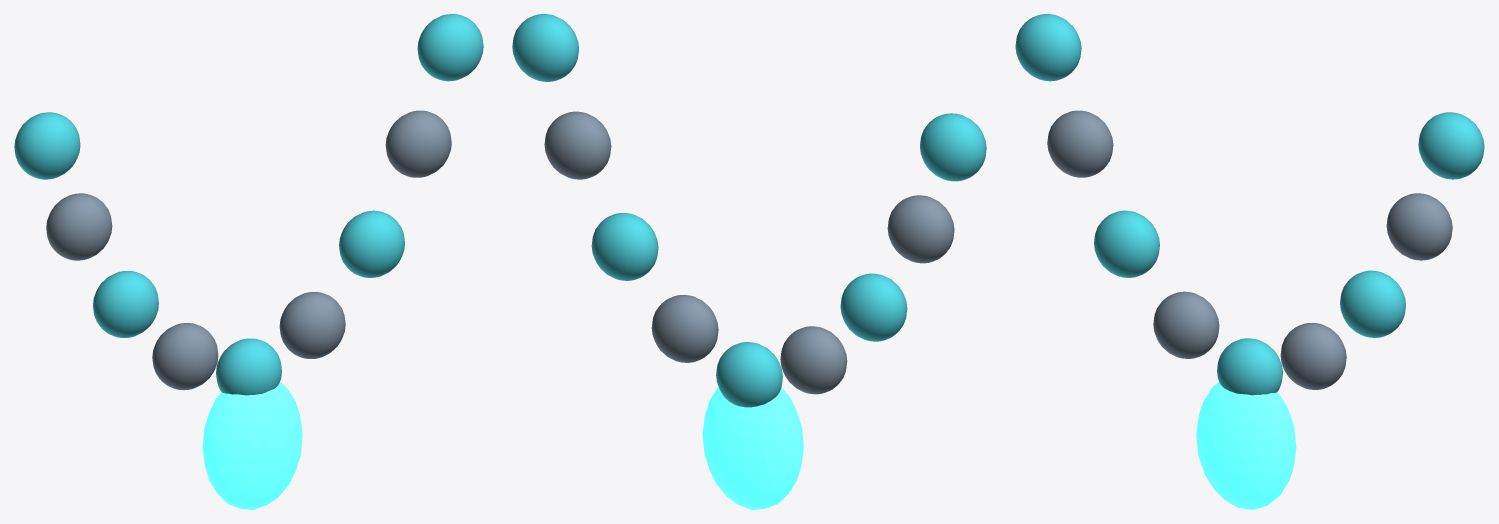
File: necklace_v8.glb
3 views of the same model, side by side, from view 1: azimuth 30°, elevation 25°; view 2: azimuth 150°, elevation 25°; view 3: azimuth 330°, elevation 25° (orthographic).
Parts seen in each view (by area): view 1: PEARL_DROP_EMISSIVE, PEARL_ACCENT, PEARL_PRIMARY.003, PEARL_PRIMARY, PEARL_ACCENT.004, PEARL_ACCENT.003, PEARL_PRIMARY.002, PEARL_ACCENT.001, PEARL_PRIMARY.001, PEARL_ACCENT.002; view 2: PEARL_DROP_EMISSIVE, PEARL_ACCENT, PEARL_PRIMARY, PEARL_ACCENT.001, PEARL_PRIMARY.003, PEARL_PRIMARY.001, PEARL_PRIMARY.002, PEARL_ACCENT.003, PEARL_ACCENT.004, PEARL_ACCENT.002; view 3: PEARL_DROP_EMISSIVE, PEARL_ACCENT.004, PEARL_PRIMARY, PEARL_ACCENT.001, PEARL_ACCENT.003, PEARL_PRIMARY.001, PEARL_PRIMARY.003, PEARL_ACCENT, PEARL_PRIMARY.002, PEARL_ACCENT.002.
Boxes of the visible parts, bbox=[...] form: PEARL_DROP_EMISSIVE: bbox=[202, 382, 302, 509]; PEARL_ACCENT: bbox=[14, 112, 80, 179]; PEARL_PRIMARY.003: bbox=[385, 110, 451, 177]; PEARL_PRIMARY: bbox=[46, 193, 112, 260]; PEARL_ACCENT.004: bbox=[417, 14, 483, 81]; PEARL_ACCENT.003: bbox=[339, 210, 404, 277]; PEARL_PRIMARY.002: bbox=[279, 292, 345, 358]; PEARL_ACCENT.001: bbox=[93, 271, 158, 337]; PEARL_PRIMARY.001: bbox=[152, 323, 218, 390]; PEARL_ACCENT.002: bbox=[216, 338, 281, 395]; PEARL_DROP_EMISSIVE: bbox=[702, 387, 803, 509]; PEARL_ACCENT: bbox=[920, 113, 986, 181]; PEARL_PRIMARY: bbox=[887, 195, 954, 263]; PEARL_ACCENT.001: bbox=[840, 273, 907, 341]; PEARL_PRIMARY.003: bbox=[544, 111, 611, 179]; PEARL_PRIMARY.001: bbox=[780, 326, 847, 394]; PEARL_PRIMARY.002: bbox=[651, 295, 718, 362]; PEARL_ACCENT.003: bbox=[591, 213, 658, 280]; PEARL_ACCENT.004: bbox=[512, 14, 578, 81]; PEARL_ACCENT.002: bbox=[716, 342, 782, 407]; PEARL_DROP_EMISSIVE: bbox=[1196, 382, 1296, 509]; PEARL_ACCENT.004: bbox=[1418, 112, 1484, 179]; PEARL_PRIMARY: bbox=[1047, 110, 1113, 177]; PEARL_ACCENT.001: bbox=[1094, 210, 1159, 277]; PEARL_ACCENT.003: bbox=[1340, 270, 1405, 337]; PEARL_PRIMARY.001: bbox=[1153, 291, 1219, 358]; PEARL_PRIMARY.003: bbox=[1386, 193, 1452, 260]; PEARL_ACCENT: bbox=[1015, 14, 1081, 81]; PEARL_PRIMARY.002: bbox=[1280, 323, 1346, 389]; PEARL_ACCENT.002: bbox=[1217, 338, 1282, 395].
Bounding box in the file's own units: 2.18 × 1.98 × 0.3.
